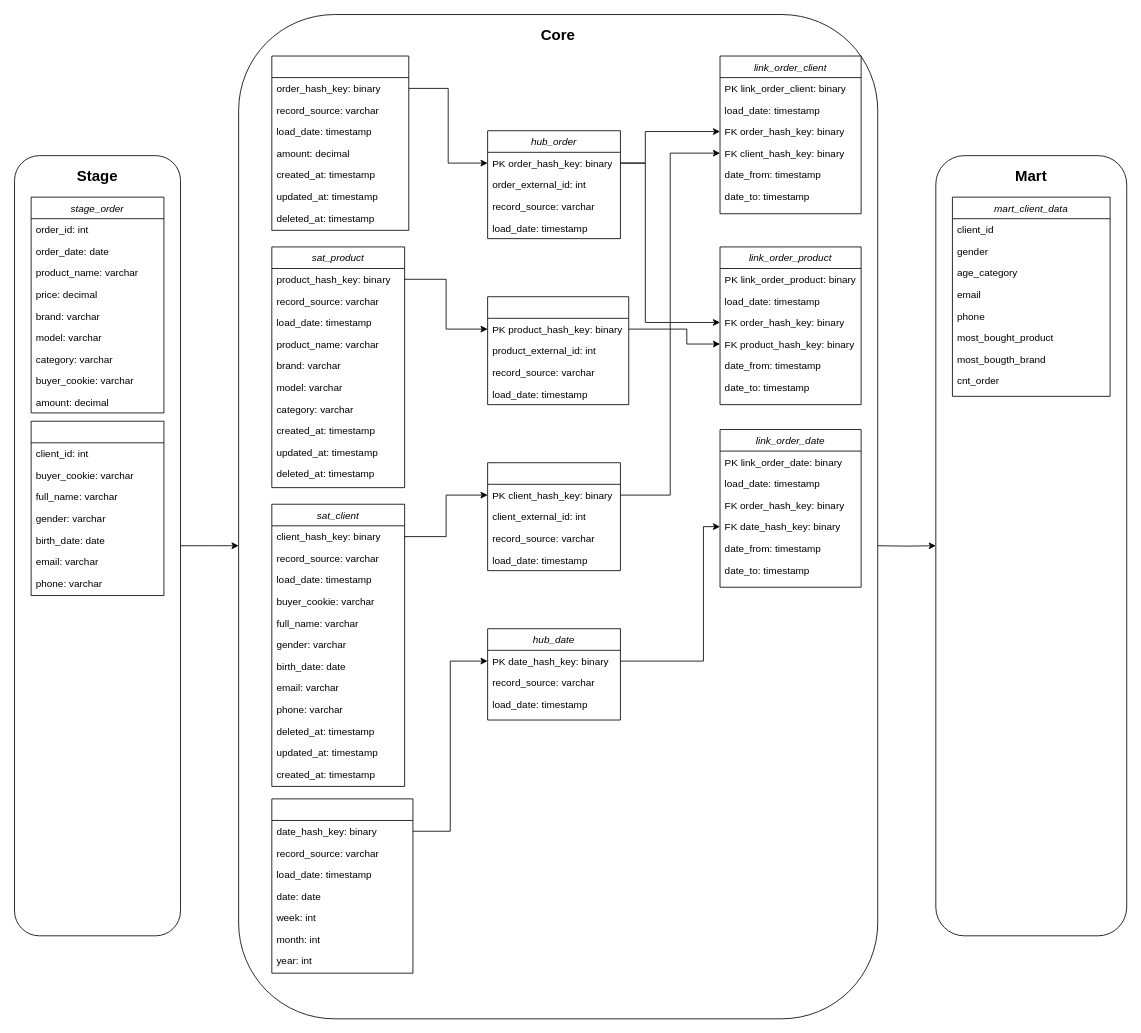
The diagram is 1141 pixels wide and 1033 high, and some of its shapes have lost their labels. The shapes that lost their labels are listed below. From the top down, each one's box as (x1, y1, x2, y2) in pixels, then its label:
(271, 55, 409, 230): sat_order
(487, 296, 629, 405): hub_product
(30, 420, 164, 596): stage_client
(487, 462, 620, 571): hub_client
(271, 798, 413, 973): sat_date
